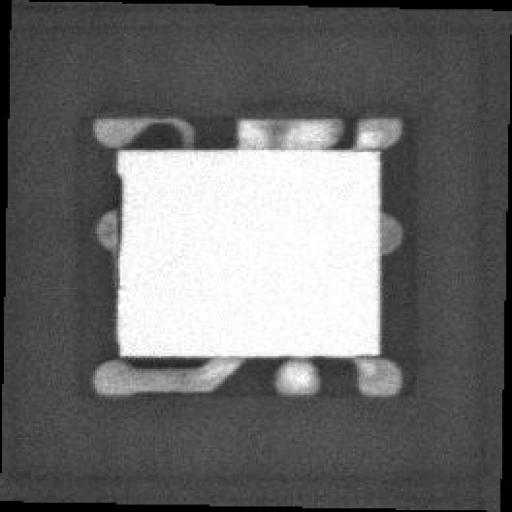DIE_BROKEN: (115, 169, 124, 293)
